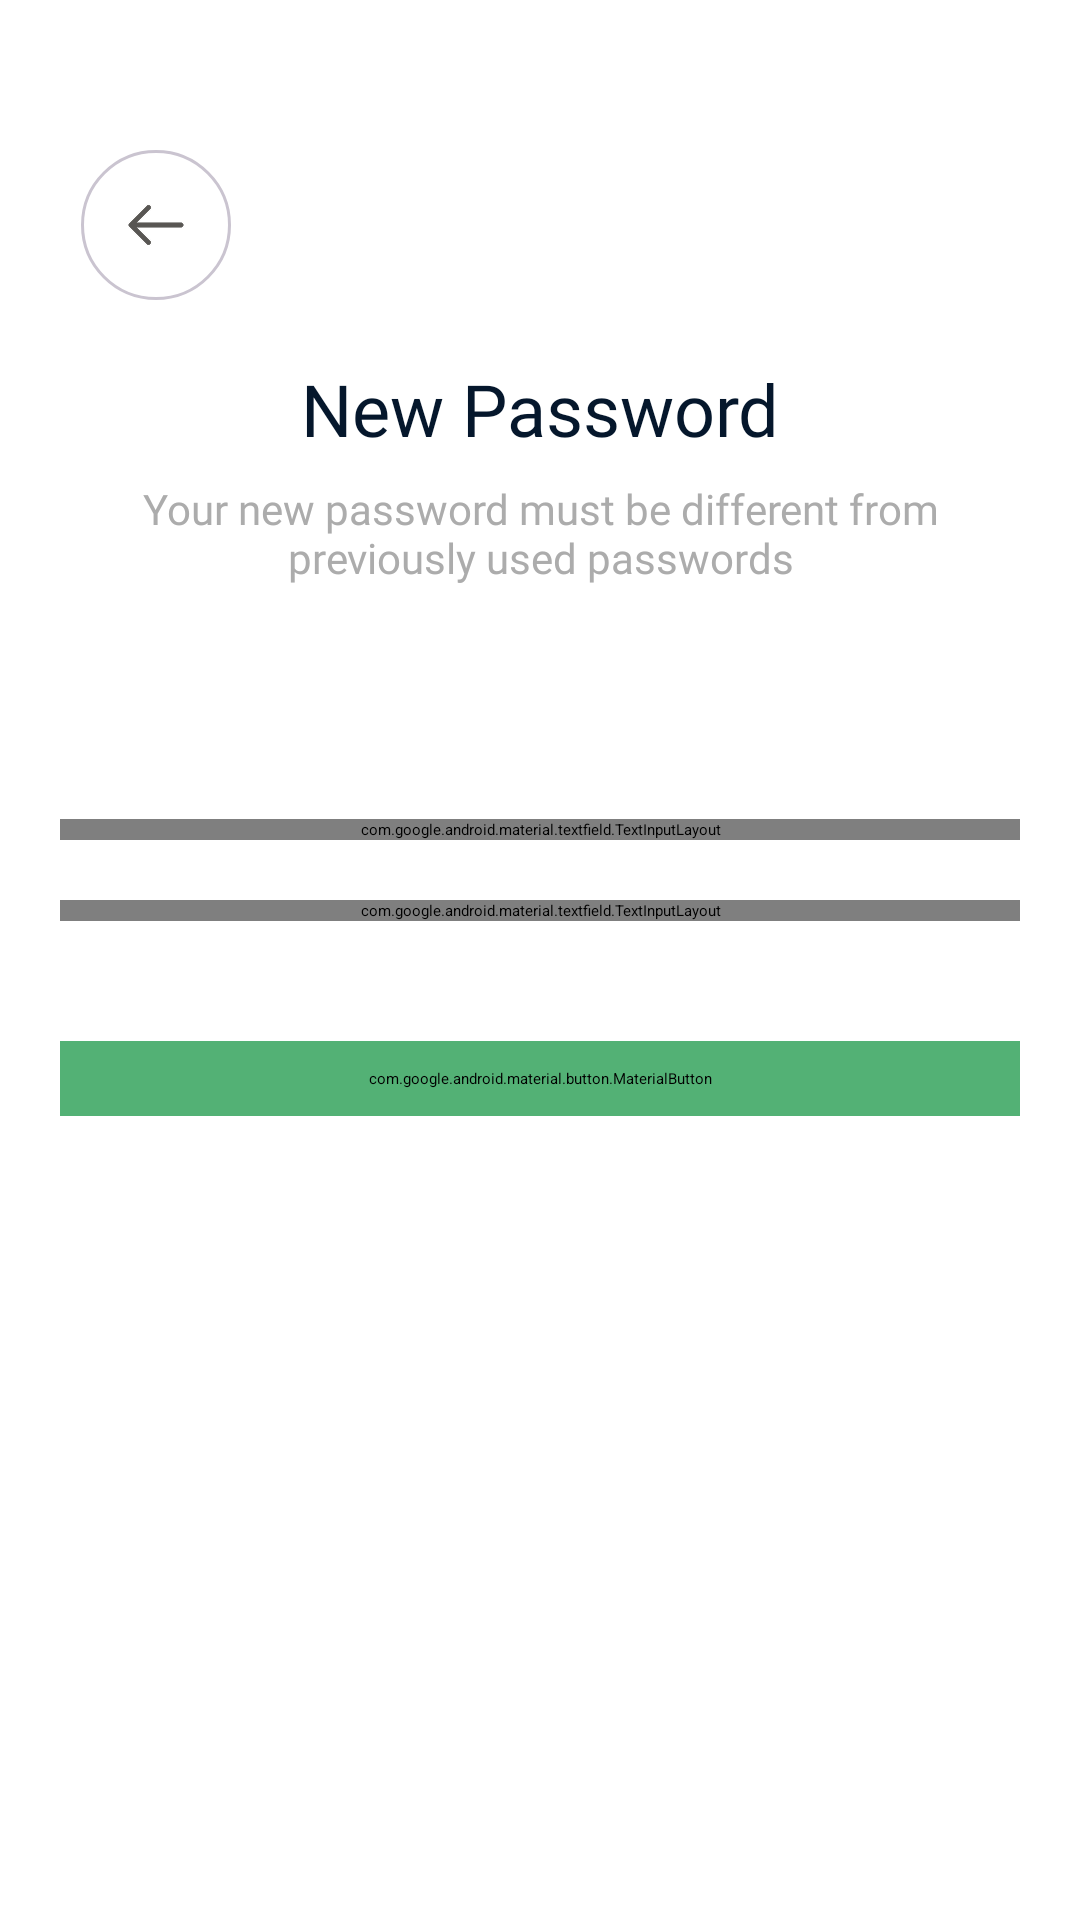

Screen size 1080 × 1920. Icon name, then its box in pixels as [x1, y1, x2, y2]:
back: [81, 150, 231, 300]
